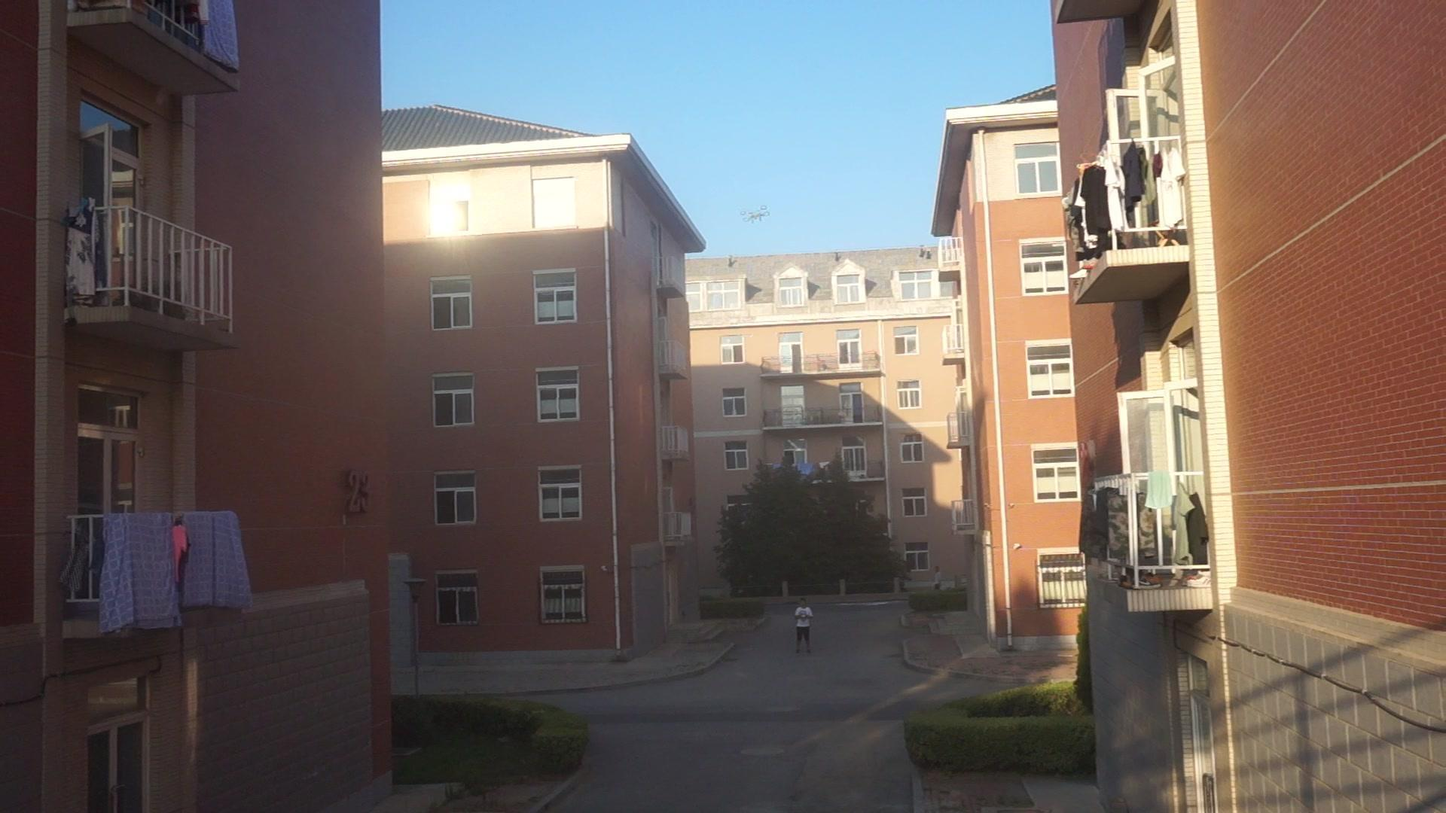UAV: (742, 206, 770, 224)
